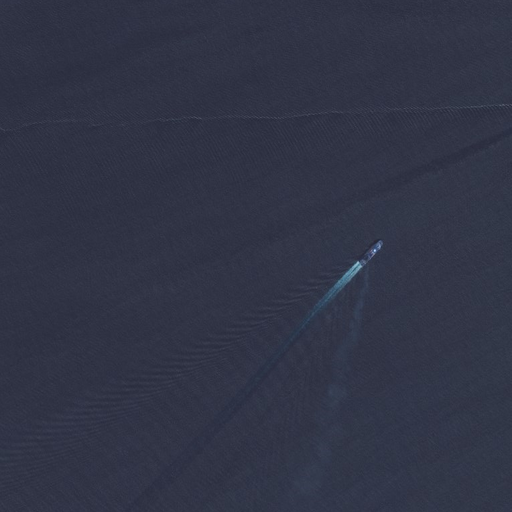ship: (356, 238, 386, 270)
